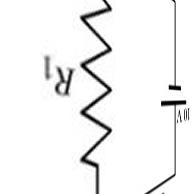resistor: (77, 1, 115, 169)
